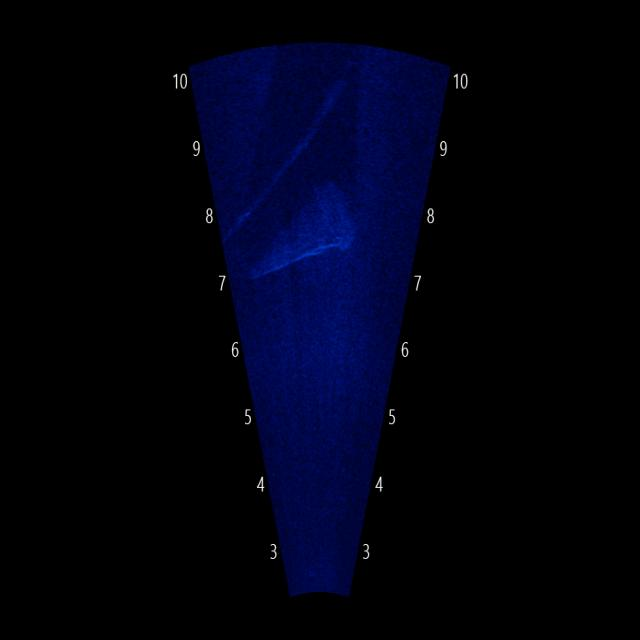triangle: (240, 168, 370, 294)
